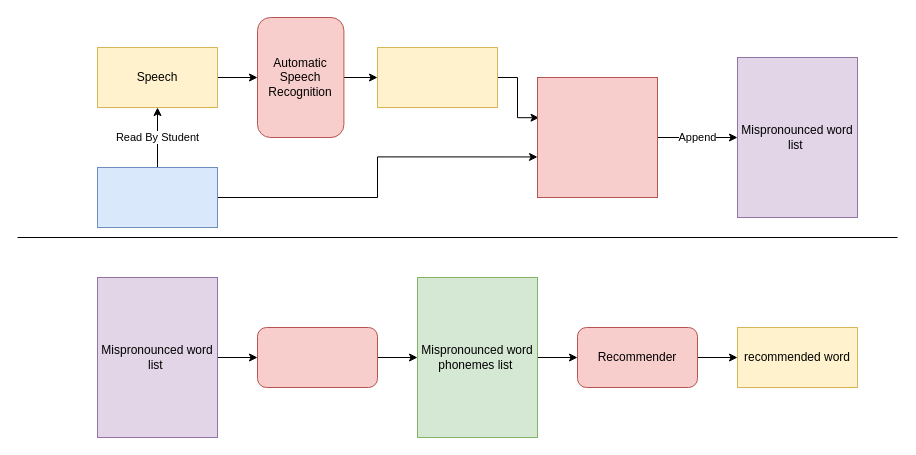
The diagram is 916 pixels wide and 455 high, and some of its shapes have lost their labels. Each missing label, with the box of its shape:
CMU phoneme dictionary: (256, 326, 378, 388)
Find Differences in words care -> car: (536, 76, 658, 198)
Predicted Text Example: car: (376, 46, 498, 108)
True Text Example: "care": (96, 166, 218, 228)
